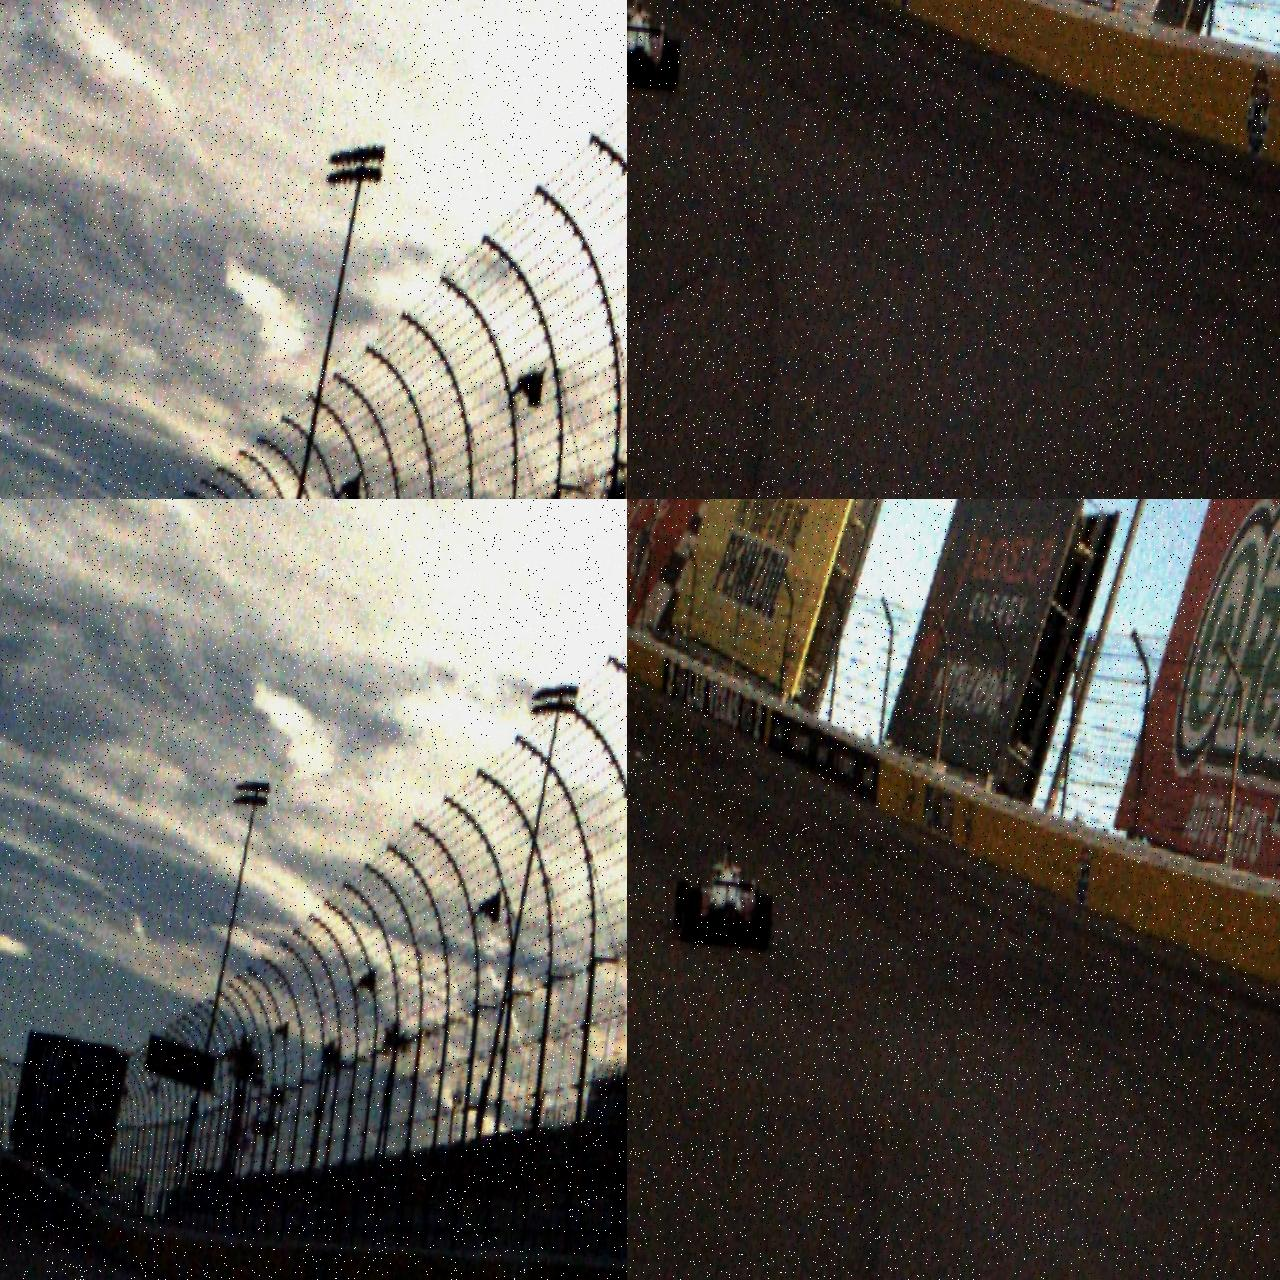AV: (670, 837, 779, 953), (627, 0, 687, 91)
Wheel: (751, 893, 775, 952), (681, 886, 703, 945), (659, 38, 682, 91), (673, 879, 690, 931)
